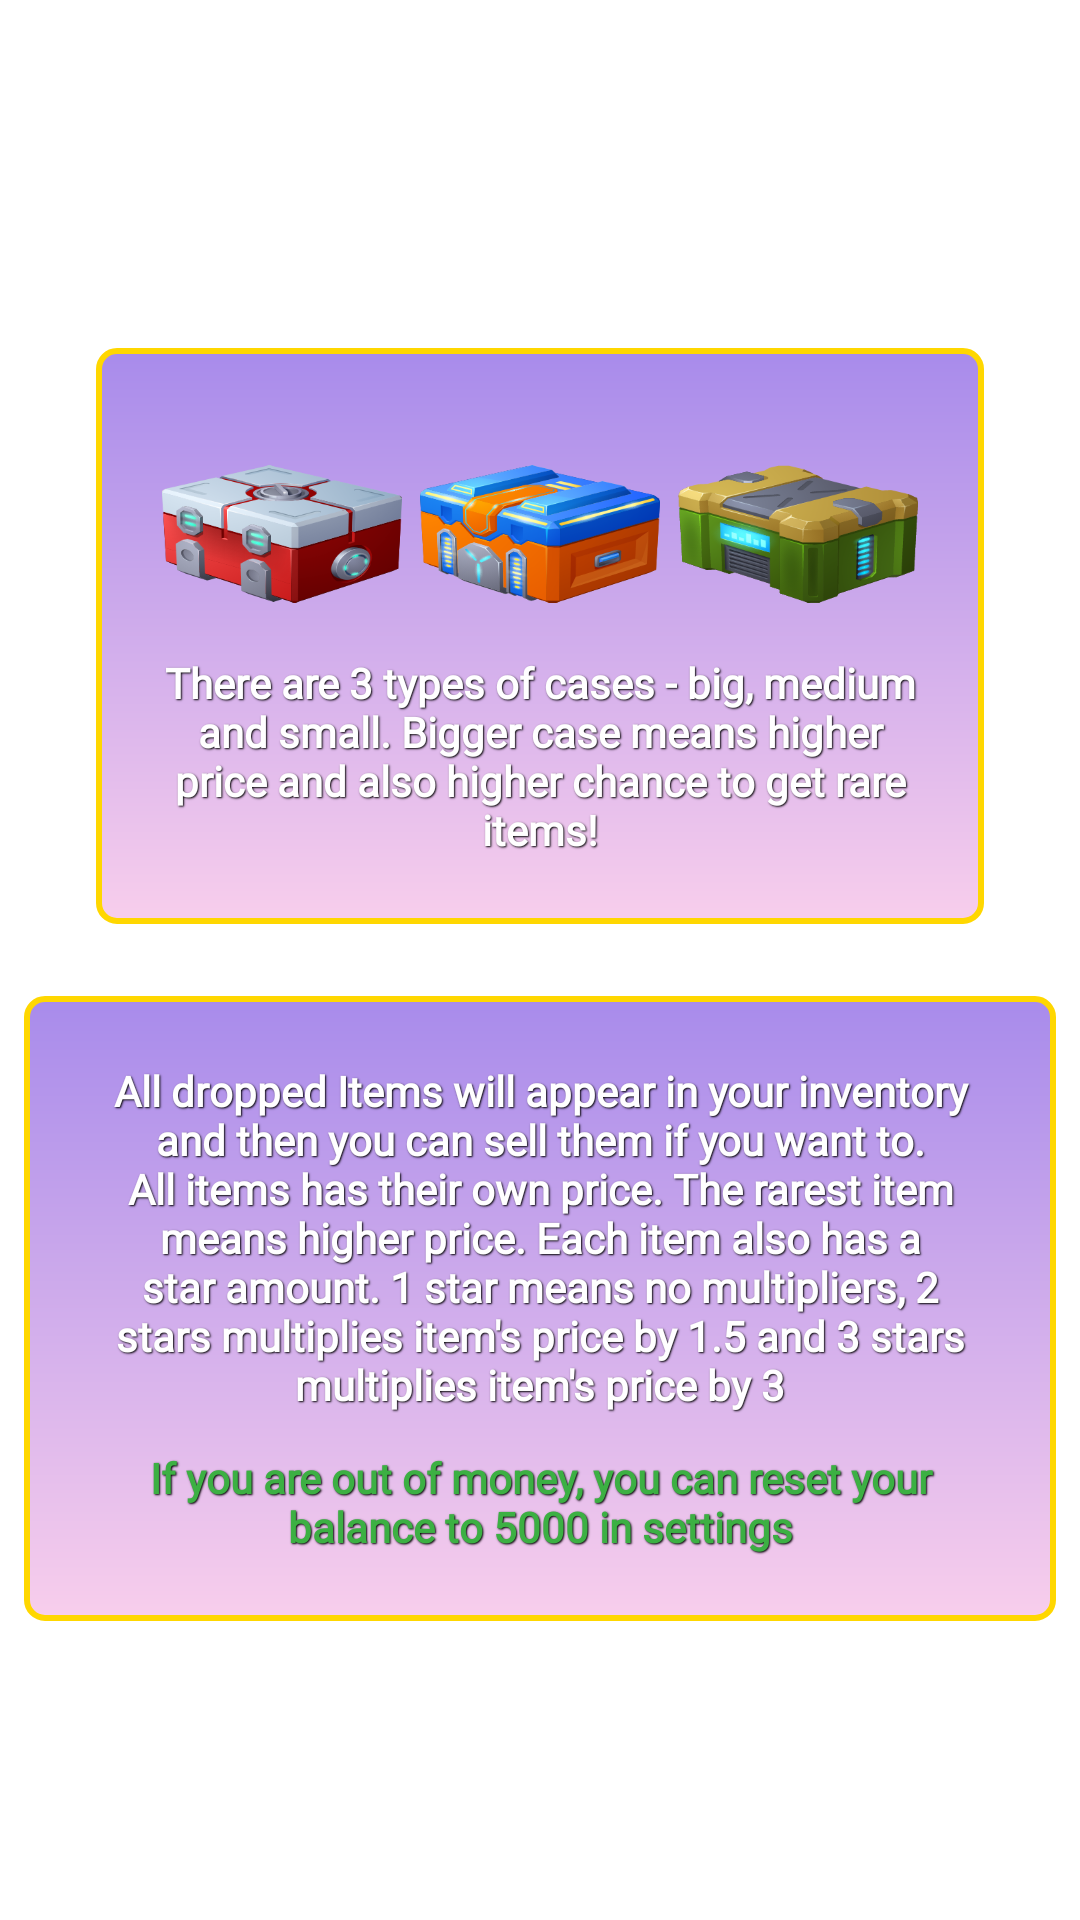

Icons on this 1080w x 1920h Android screen, each with its box as (x1, y1, x2, y2):
case middle: (420, 465, 660, 654)
case tiny: (678, 465, 918, 654)
